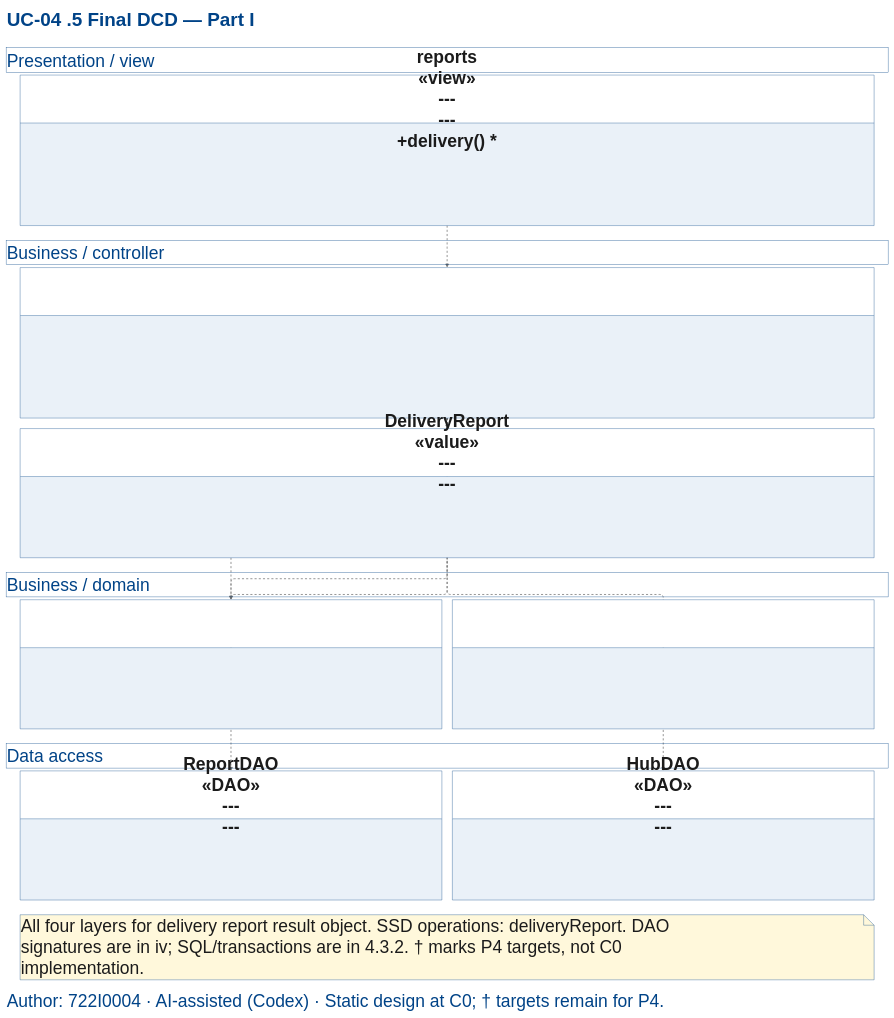
Image size: 894x1018. Some labels were removed from this diagram. Each missing label, with the box of its shape:
DeliveryState «enumeration» --- ---: (452, 599, 874, 729)
Hub «entity» --- ---: (20, 599, 442, 729)
ReportController «controller» --- --- +delivery_report() -> DeliveryReport: (20, 267, 874, 418)
